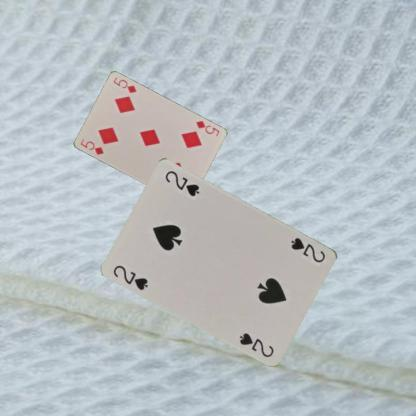2s: (110, 262, 150, 292), (288, 235, 327, 264)
5d: (193, 118, 221, 137), (78, 136, 104, 156)
